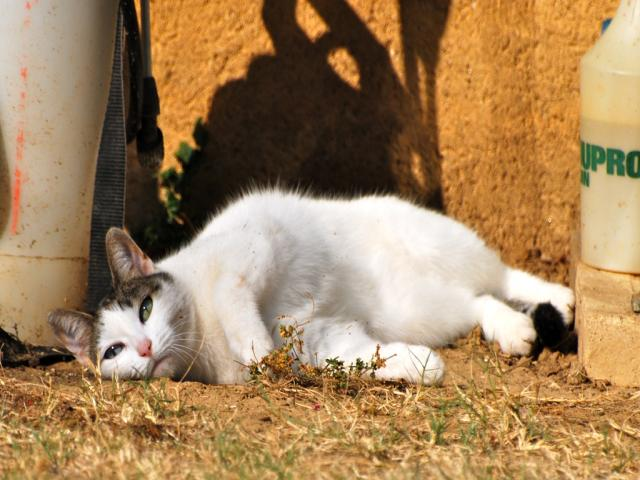Cat: (47, 179, 576, 378)
